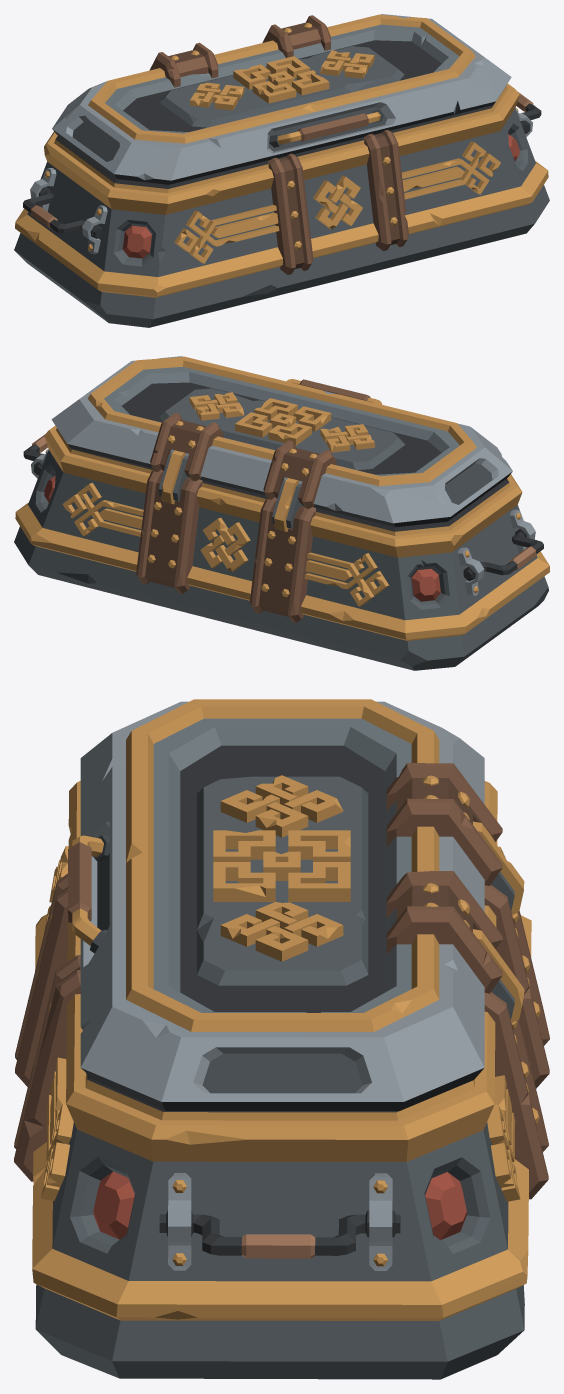
The model's file is chest.glb.
3 views of the same model, one above another, from view 1: azimuth 30°, elevation 25°; view 2: azimuth 150°, elevation 25°; view 3: azimuth 270°, elevation 25° (orthographic). The views are drawn at different scales.
Visible parts, largest first — view 1: SM_Prop_Dwarf_TreasureChest_01, SM_Prop_TreasureChest_Lid_01, SM_Prop_TeasureChest_Handle_02, SM_Prop_TeasureChest_Handle_01; view 2: SM_Prop_Dwarf_TreasureChest_01, SM_Prop_TreasureChest_Lid_01, SM_Prop_TeasureChest_Handle_02, SM_Prop_TeasureChest_Handle_01; view 3: SM_Prop_TreasureChest_Lid_01, SM_Prop_Dwarf_TreasureChest_01, SM_Prop_TeasureChest_Handle_01.
Part boxes in pixels (x1,y1,x2,y2): SM_Prop_Dwarf_TreasureChest_01: (14, 83, 549, 327); SM_Prop_TreasureChest_Lid_01: (52, 14, 511, 184); SM_Prop_TeasureChest_Handle_02: (23, 187, 102, 238); SM_Prop_TeasureChest_Handle_01: (516, 92, 541, 133); SM_Prop_Dwarf_TreasureChest_01: (14, 425, 549, 670); SM_Prop_TreasureChest_Lid_01: (51, 356, 512, 531); SM_Prop_TeasureChest_Handle_02: (463, 529, 543, 581); SM_Prop_TeasureChest_Handle_01: (23, 435, 47, 475); SM_Prop_TreasureChest_Lid_01: (68, 699, 524, 1110); SM_Prop_Dwarf_TreasureChest_01: (14, 781, 549, 1379); SM_Prop_TeasureChest_Handle_01: (159, 1210, 400, 1258).
Size of the model in its own units: 3.83 by 1.33 by 1.87.
1 material, 1 textured.
